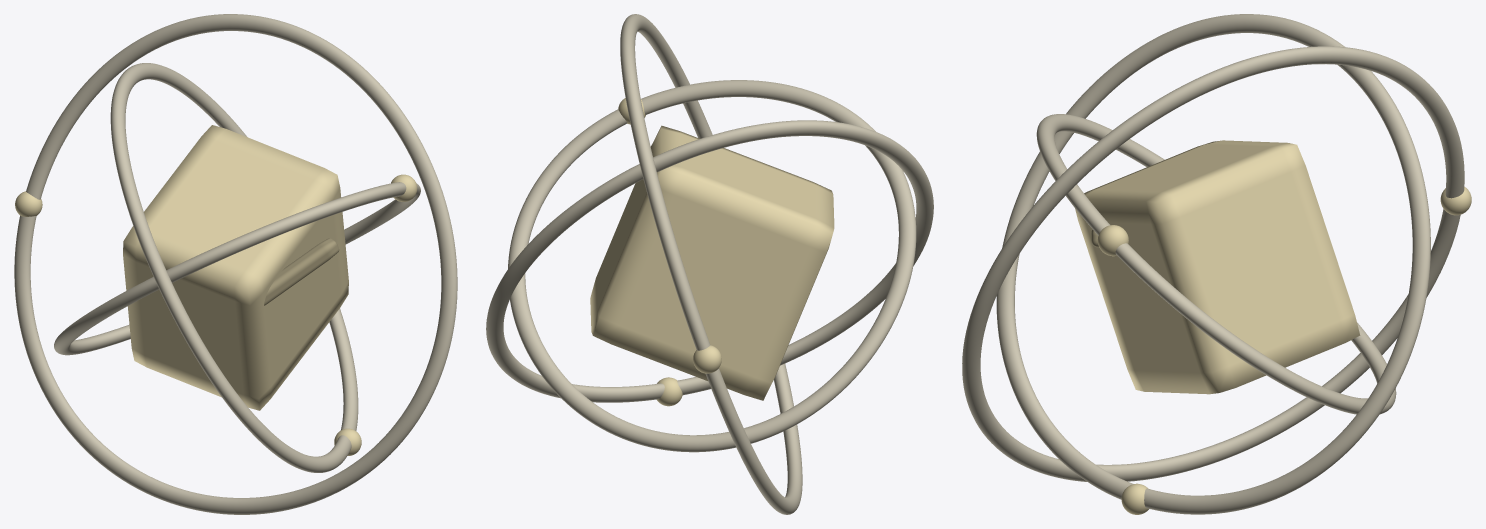
3 renders of one model, left to right at view 1: azimuth 30°, elevation 25°; view 2: azimuth 150°, elevation 25°; view 3: azimuth 270°, elevation 25°, orthographic. The views are drawn at different scales.
Bounding box in the file's own units: 0.9344 × 1.12 × 1.06.
